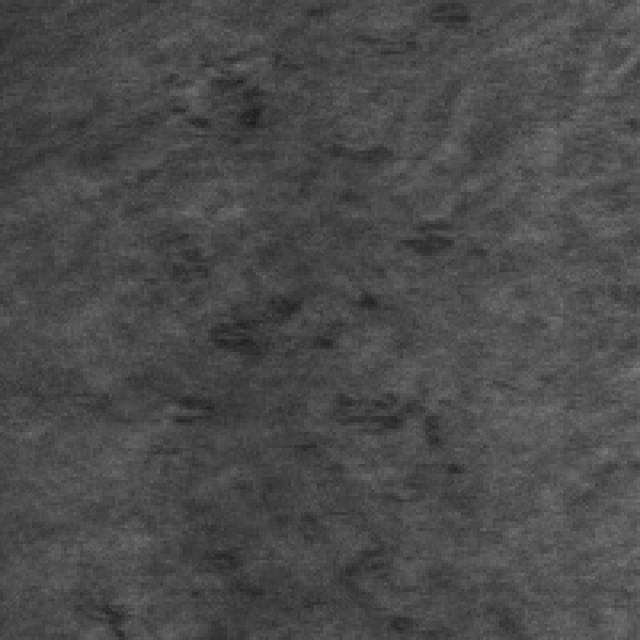rolled-in_scale: (144, 157, 461, 438)
